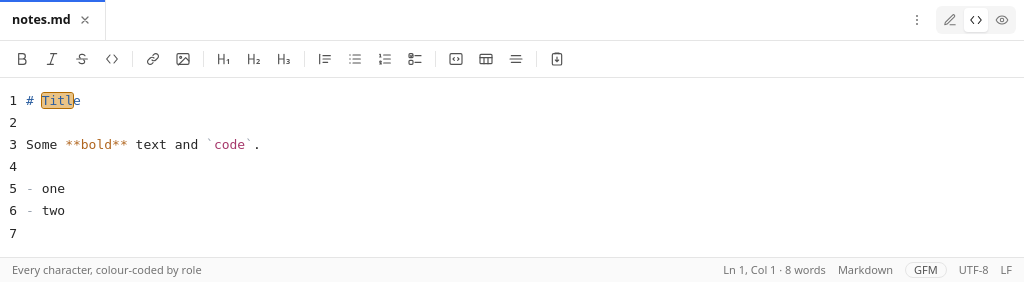
Test case: EditorPanel: showing what Find found › switches to Preview while a search of the open document is showing in Source
Expected: the element with test id "document-editor" is shown, x1=9 y1=93 x2=261 y2=241
Click the button named "Preview" at (1002, 20), box x1=990 y1=8 x2=1014 y2=32
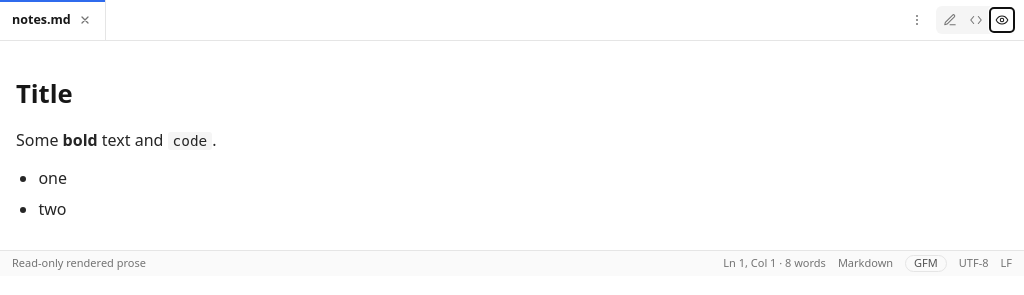
Now the element with test id "document-editor" is gone
Now the element named "Markdown preview" is shown, box x1=16 y1=76 x2=217 y2=220
